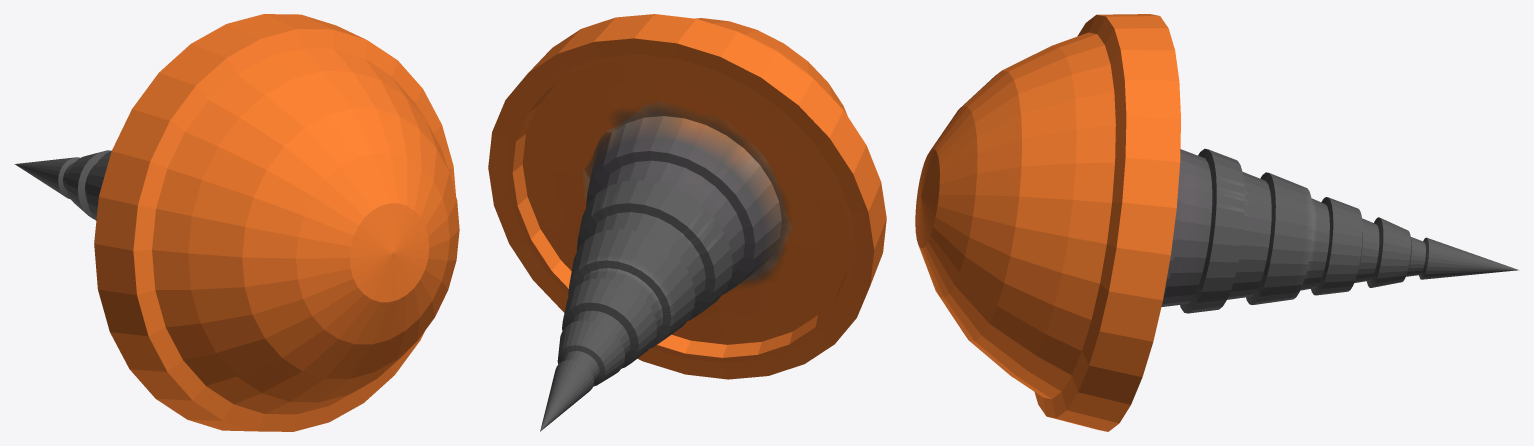
The model's file is CrashMan.fbx.
3 renders of one model, left to right at view 1: azimuth 30°, elevation 25°; view 2: azimuth 150°, elevation 25°; view 3: azimuth 270°, elevation 25°, orthographic. The views are drawn at different scales.
Parts seen in each view (by area): view 1: node_id4; view 2: node_id4; view 3: node_id4.
Boxes of the visible parts, x1,y1,x2,y2 form: node_id4: (14, 14, 459, 431); node_id4: (488, 14, 886, 431); node_id4: (915, 14, 1518, 431).
Bounding box in the file's own units: 0.3456 × 0.3456 × 0.5012.
1 material, 1 textured.
